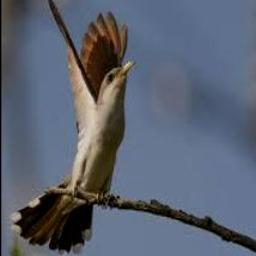Cuckoo: (11, 0, 136, 252)
